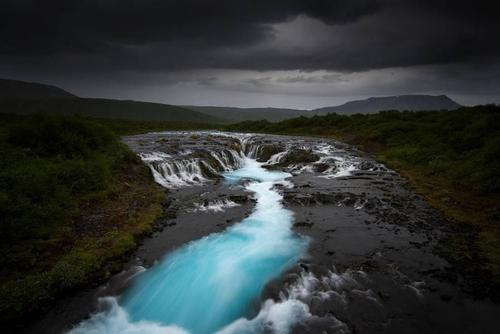mountain: (281, 105, 499, 323), (2, 79, 148, 278)
sea_river: (158, 244, 263, 323)
sky_cloud: (52, 53, 468, 94)
